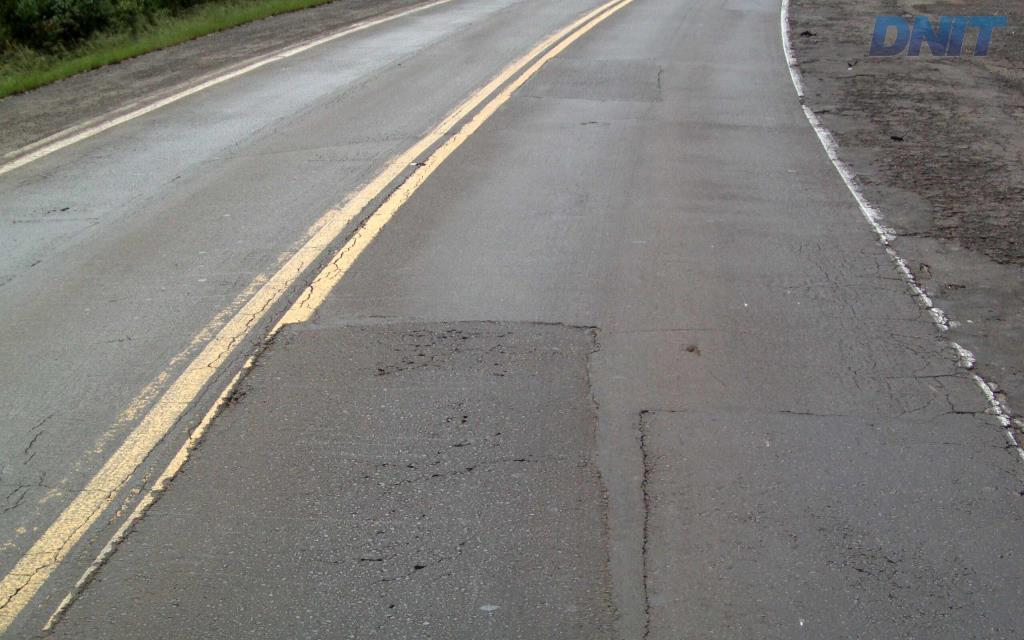crack: (190, 324, 286, 451), (637, 409, 664, 623), (83, 521, 139, 590), (141, 453, 193, 520), (883, 314, 939, 359), (399, 328, 480, 341)
